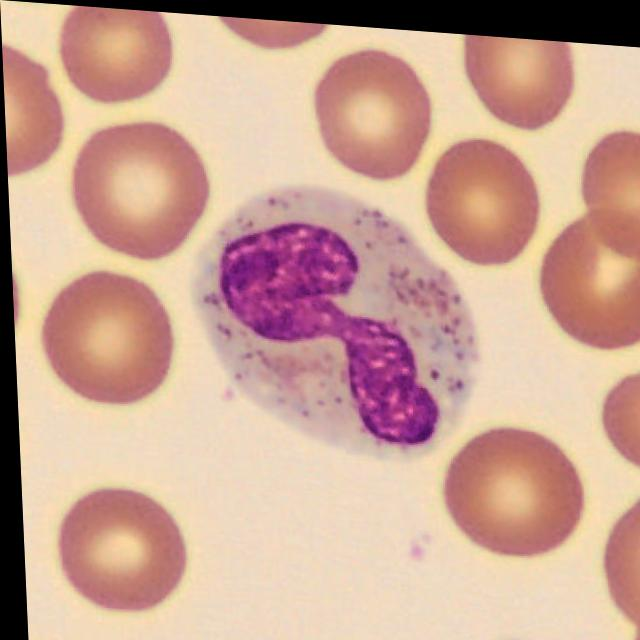Neutrofilo segmentado: (193, 182, 480, 455)
